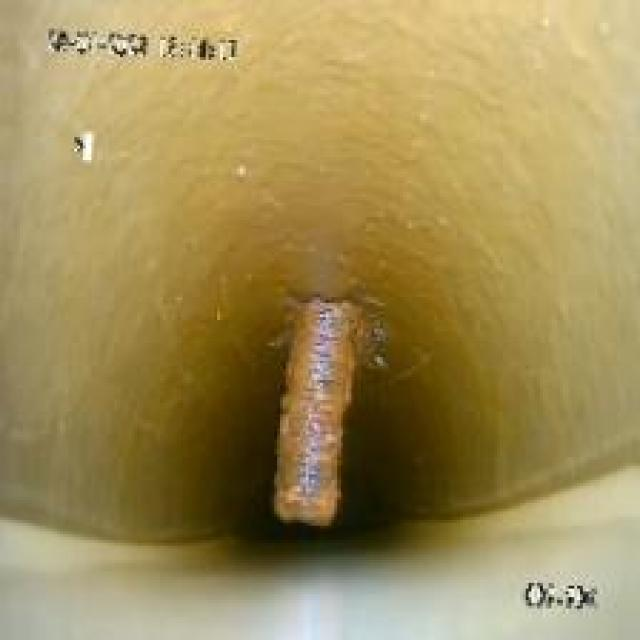ferrule: (257, 280, 357, 531)
